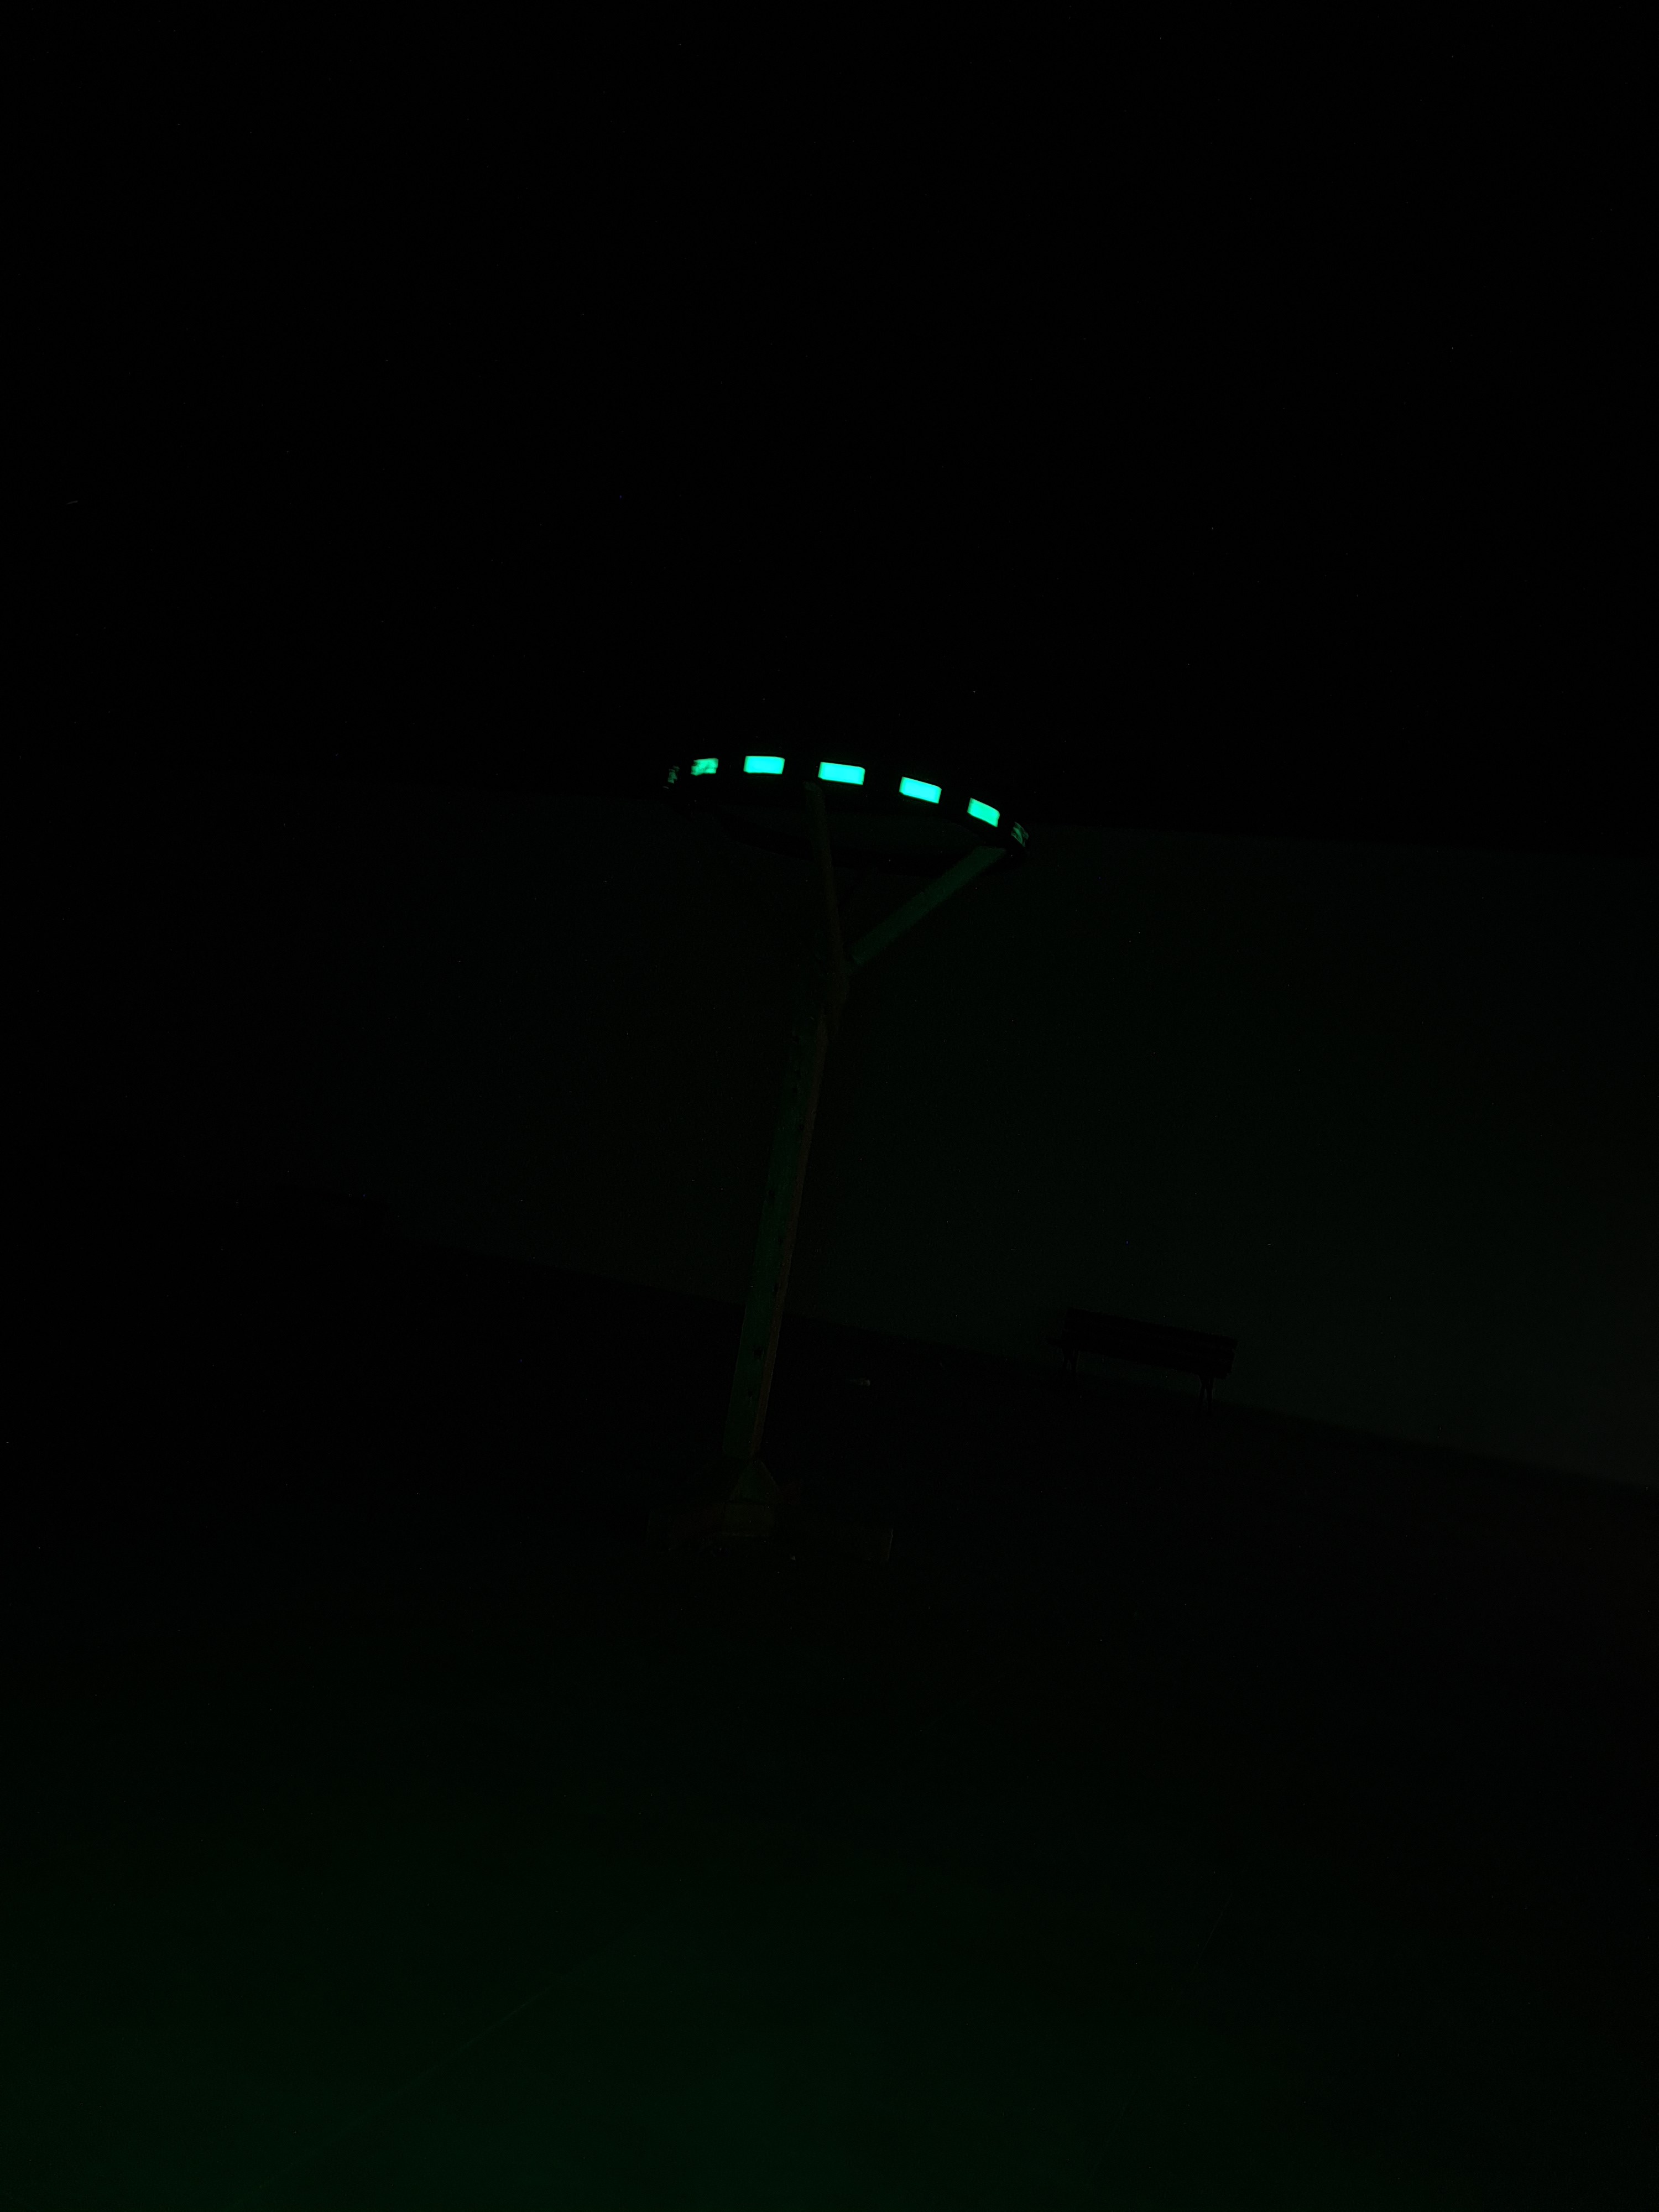hoop: (659, 744, 1032, 852)
